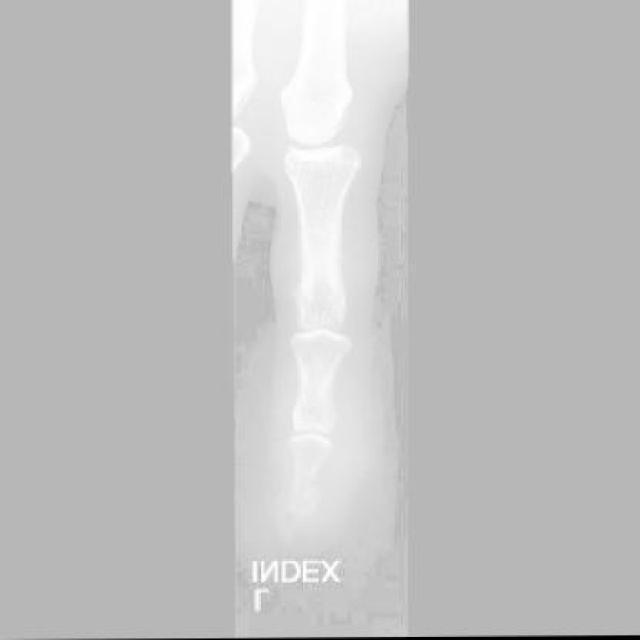Fracture: (286, 475, 320, 508)
